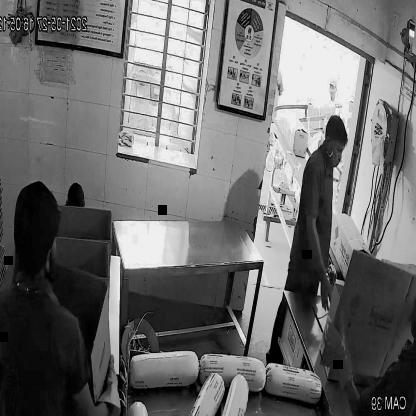no_goggles: (325, 138, 351, 164)
